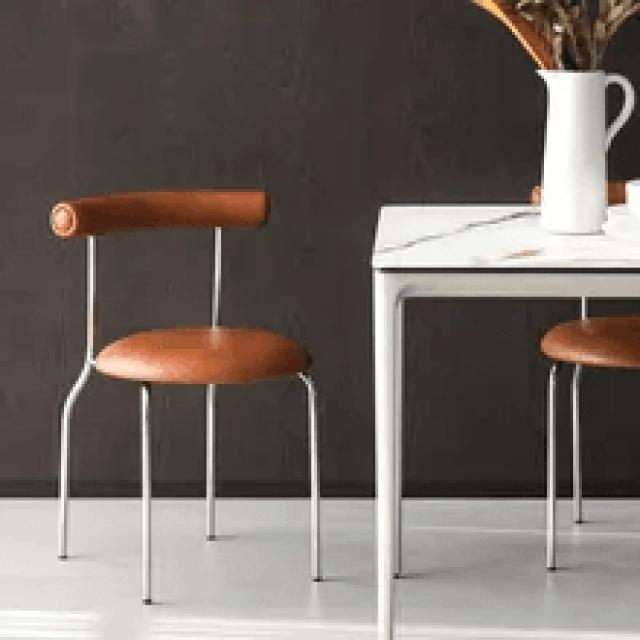chair: (49, 186, 321, 604), (539, 314, 639, 570)
